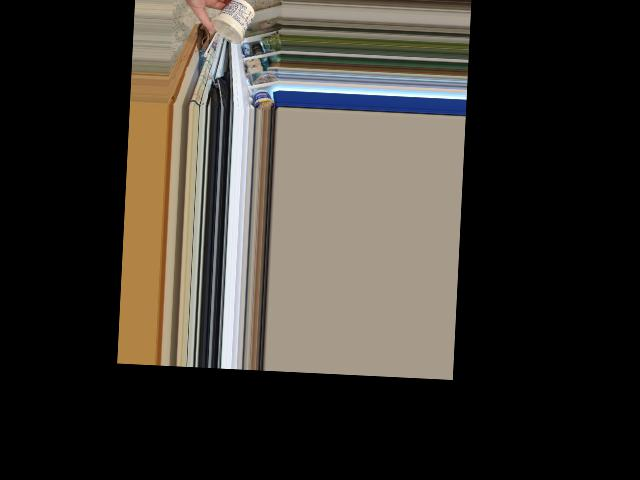cotage: (210, 4, 253, 46)
